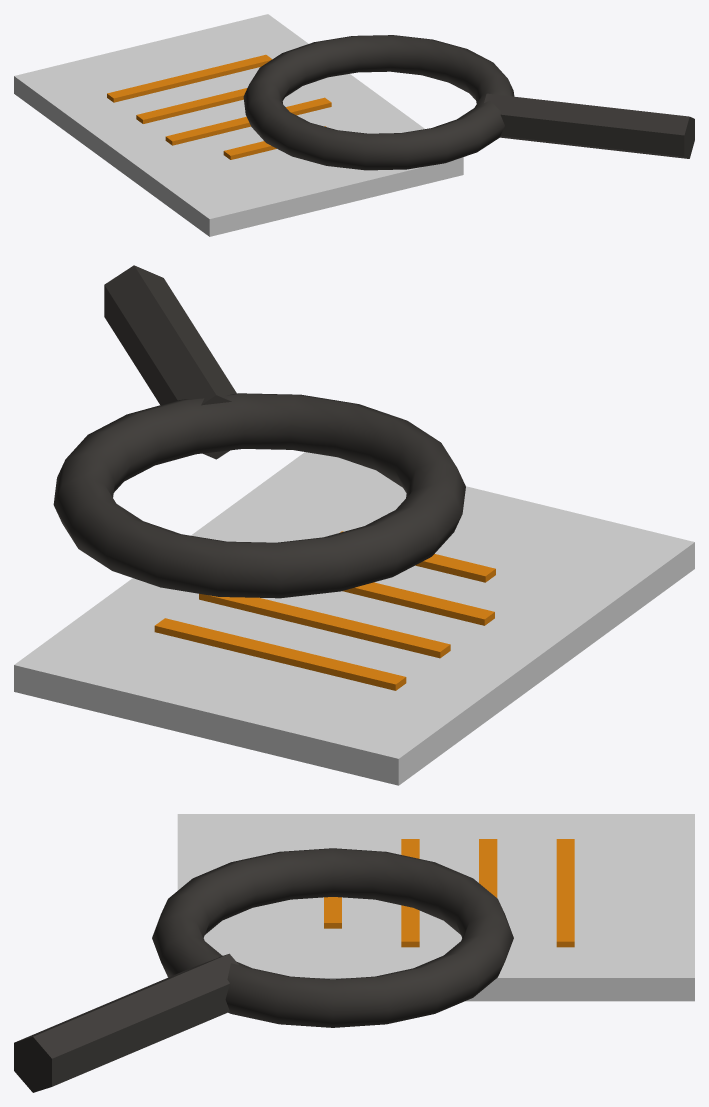
Rendered from R5_digital_forensics.glb.
The picture shows the model from 3 angles, top to bottom: view 1: azimuth 30°, elevation 25°; view 2: azimuth 150°, elevation 25°; view 3: azimuth 270°, elevation 25°; orthographic projection. The views are drawn at different scales.
Parts seen in each view (by area): view 1: instance_white, instance_ink, instance_amber; view 2: instance_white, instance_ink, instance_amber; view 3: instance_white, instance_ink, instance_amber.
Part boxes in pixels (left/top/right/bottom): instance_white: left=14, top=14, right=463, bottom=236; instance_ink: left=243, top=35, right=694, bottom=170; instance_amber: left=107, top=54, right=331, bottom=159; instance_white: left=14, top=452, right=694, bottom=785; instance_ink: left=53, top=265, right=465, bottom=598; instance_amber: left=154, top=531, right=495, bottom=690; instance_white: left=177, top=814, right=694, bottom=1001; instance_ink: left=14, top=848, right=513, bottom=1092; instance_amber: left=324, top=839, right=574, bottom=947.
Size of the model in its own units: 1.29 by 0.16 by 1.32.
